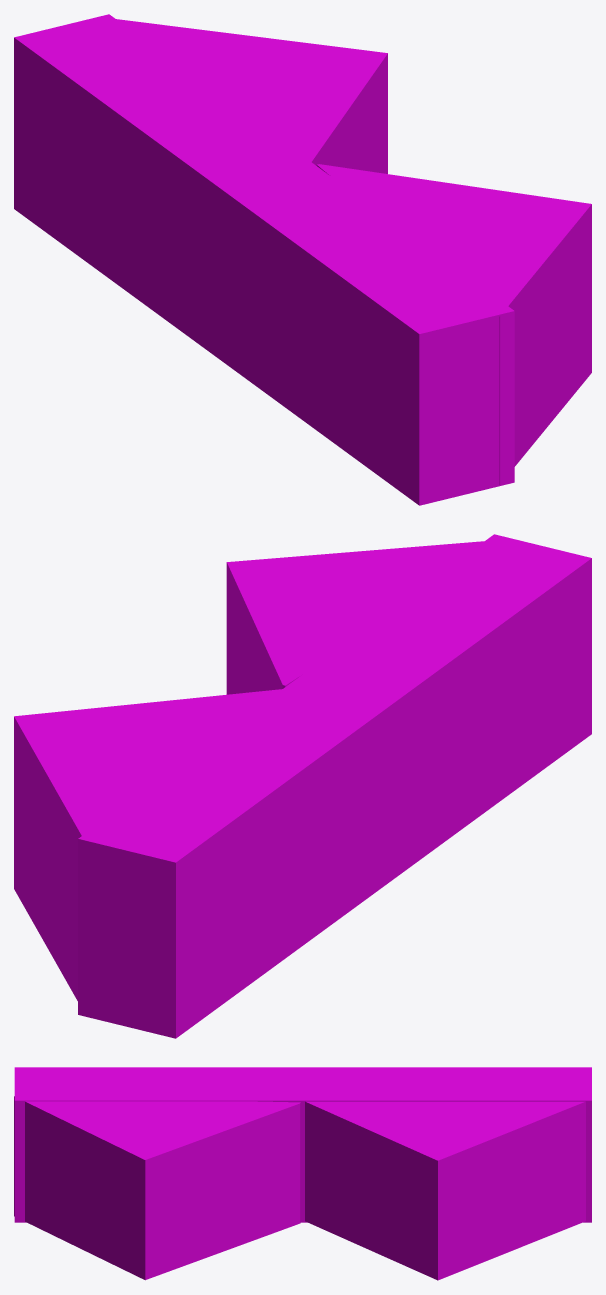
File: Rune4NoStone.fbx
The picture shows the model from 3 angles, top to bottom: view 1: azimuth 30°, elevation 25°; view 2: azimuth 150°, elevation 25°; view 3: azimuth 270°, elevation 25°; orthographic projection. The views are drawn at different scales.
Visible parts, largest first — view 1: Cube, Cube.002, Cube.001; view 2: Cube, Cube.001, Cube.002; view 3: Cube.001, Cube.002, Cube.
Part boxes in pixels (x1=…): Cube: x1=14, y1=14, x2=514, y2=505; Cube.002: x1=316, y1=164, x2=591, y2=484; Cube.001: x1=116, y1=19, x2=387, y2=173; Cube: x1=78, y1=534, x2=591, y2=1038; Cube.001: x1=14, y1=689, x2=282, y2=1000; Cube.002: x1=226, y1=541, x2=483, y2=694; Cube.001: x1=305, y1=1101, x2=585, y2=1280; Cube.002: x1=14, y1=1096, x2=300, y2=1280; Cube: x1=14, y1=1067, x2=591, y2=1222.
Size of the model in its own units: 65.56 by 40.42 by 173.
